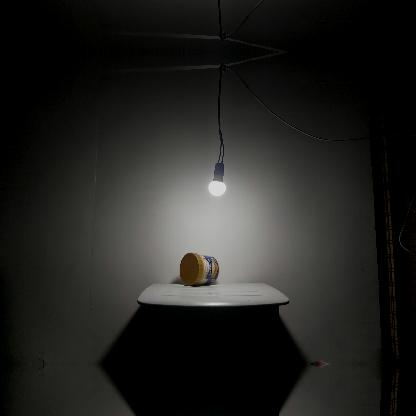Lady-s-Choice: (180, 252, 218, 286)
